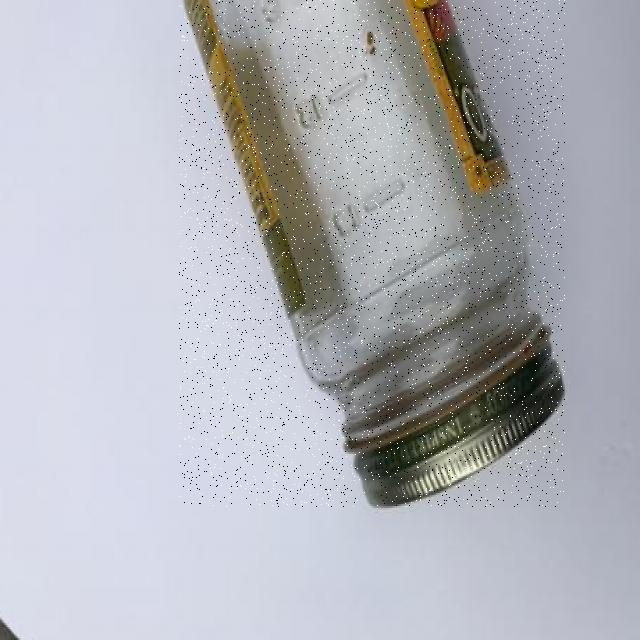glass: (179, 0, 565, 507)
